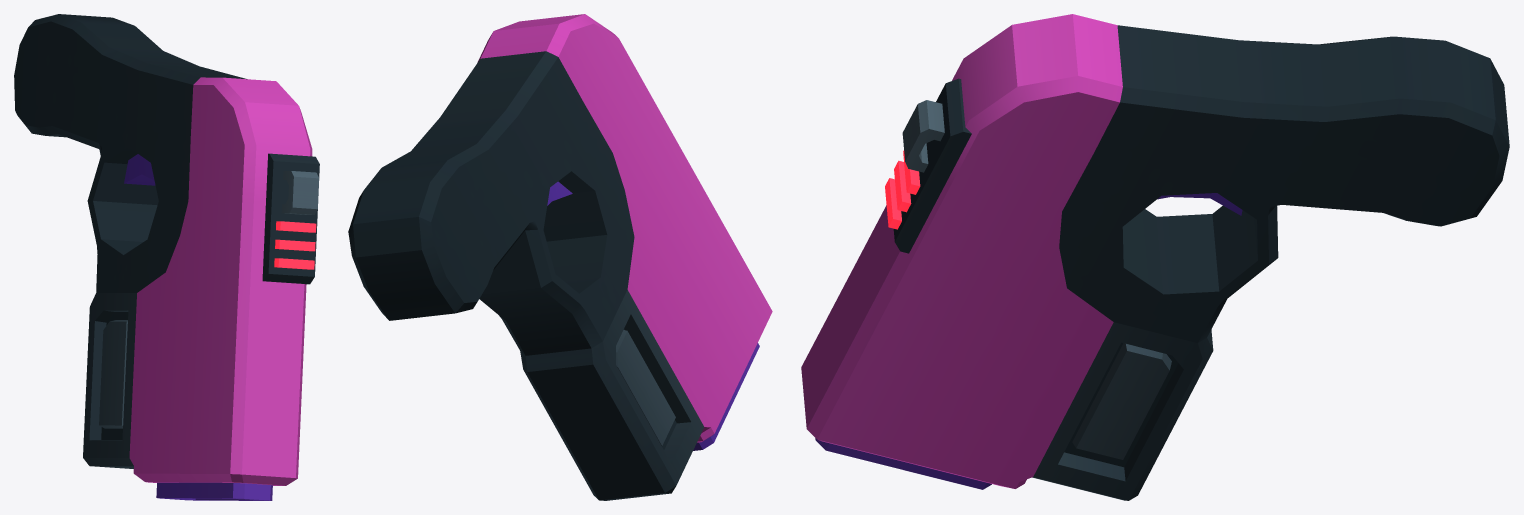
The model's file is Level2Gun.fbx.
3 renders of one model, left to right at view 1: azimuth 30°, elevation 25°; view 2: azimuth 150°, elevation 25°; view 3: azimuth 270°, elevation 25°, orthographic. The views are drawn at different scales.
Parts seen in each view (by area): view 1: Gun_04_Pink; view 2: Gun_04_Pink; view 3: Gun_04_Pink.
Part boxes in pixels (left/top/right/bottom): Gun_04_Pink: left=14, top=14, right=319, bottom=500; Gun_04_Pink: left=348, top=14, right=772, bottom=500; Gun_04_Pink: left=801, top=14, right=1509, bottom=500.
Size of the model in its own units: 20.68 by 42.47 by 51.87.
Materials: 1 (1 with a texture image).
